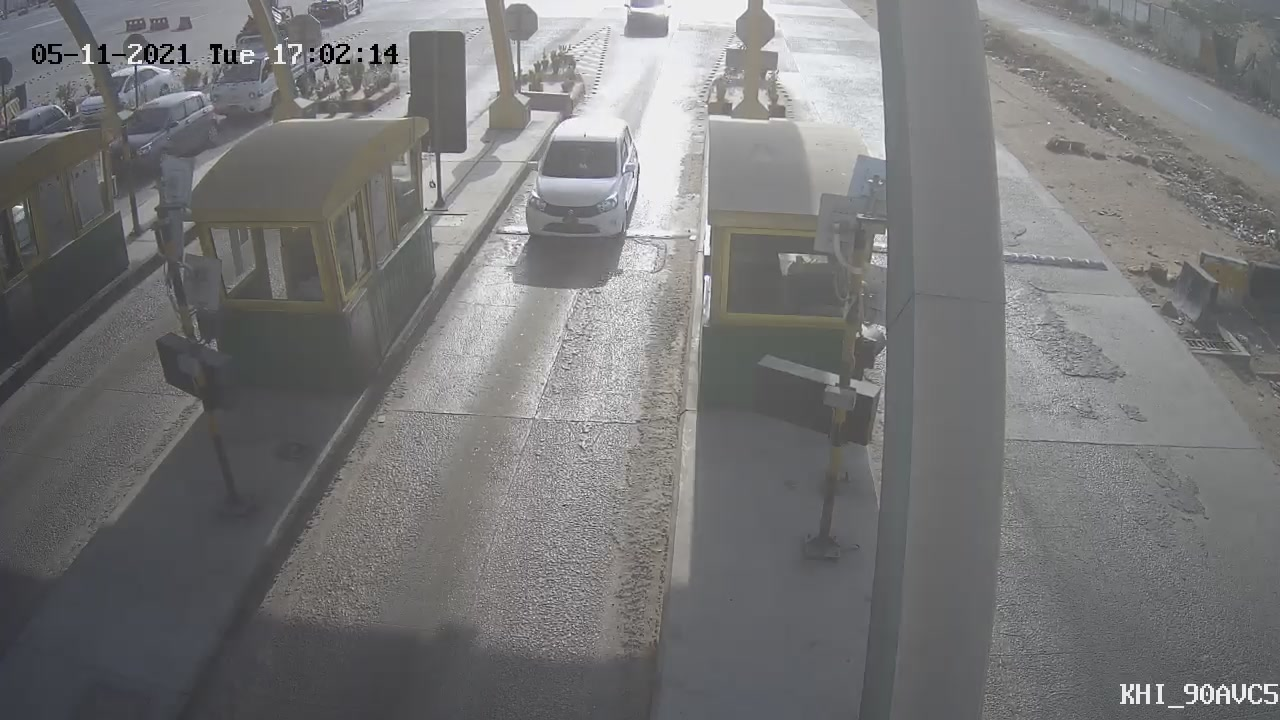F1: (501, 103, 655, 269)
